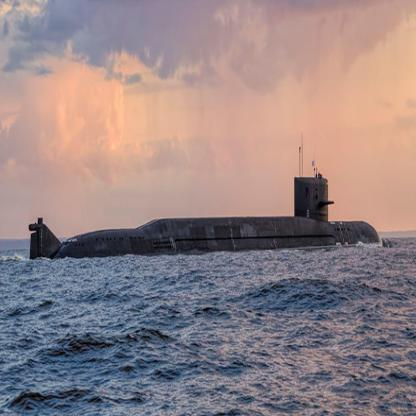Submarine: (28, 147, 383, 259)
